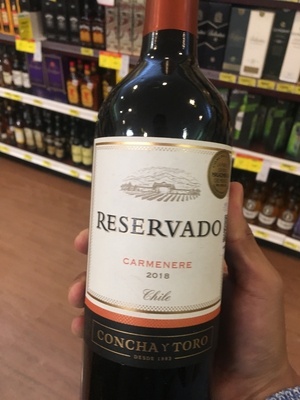reservado carmenere: (83, 3, 231, 400)
